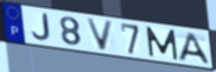7: (119, 22, 141, 55)
8: (59, 16, 83, 47)
A: (177, 31, 212, 66)
J: (30, 12, 52, 42)
M: (144, 25, 180, 61)
V: (84, 17, 115, 52)
